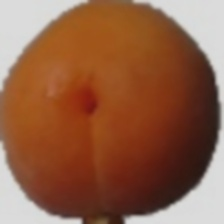apricot: (22, 40, 201, 206)
